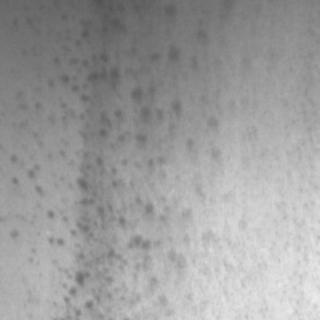pitted_surface: (15, 0, 219, 318)
